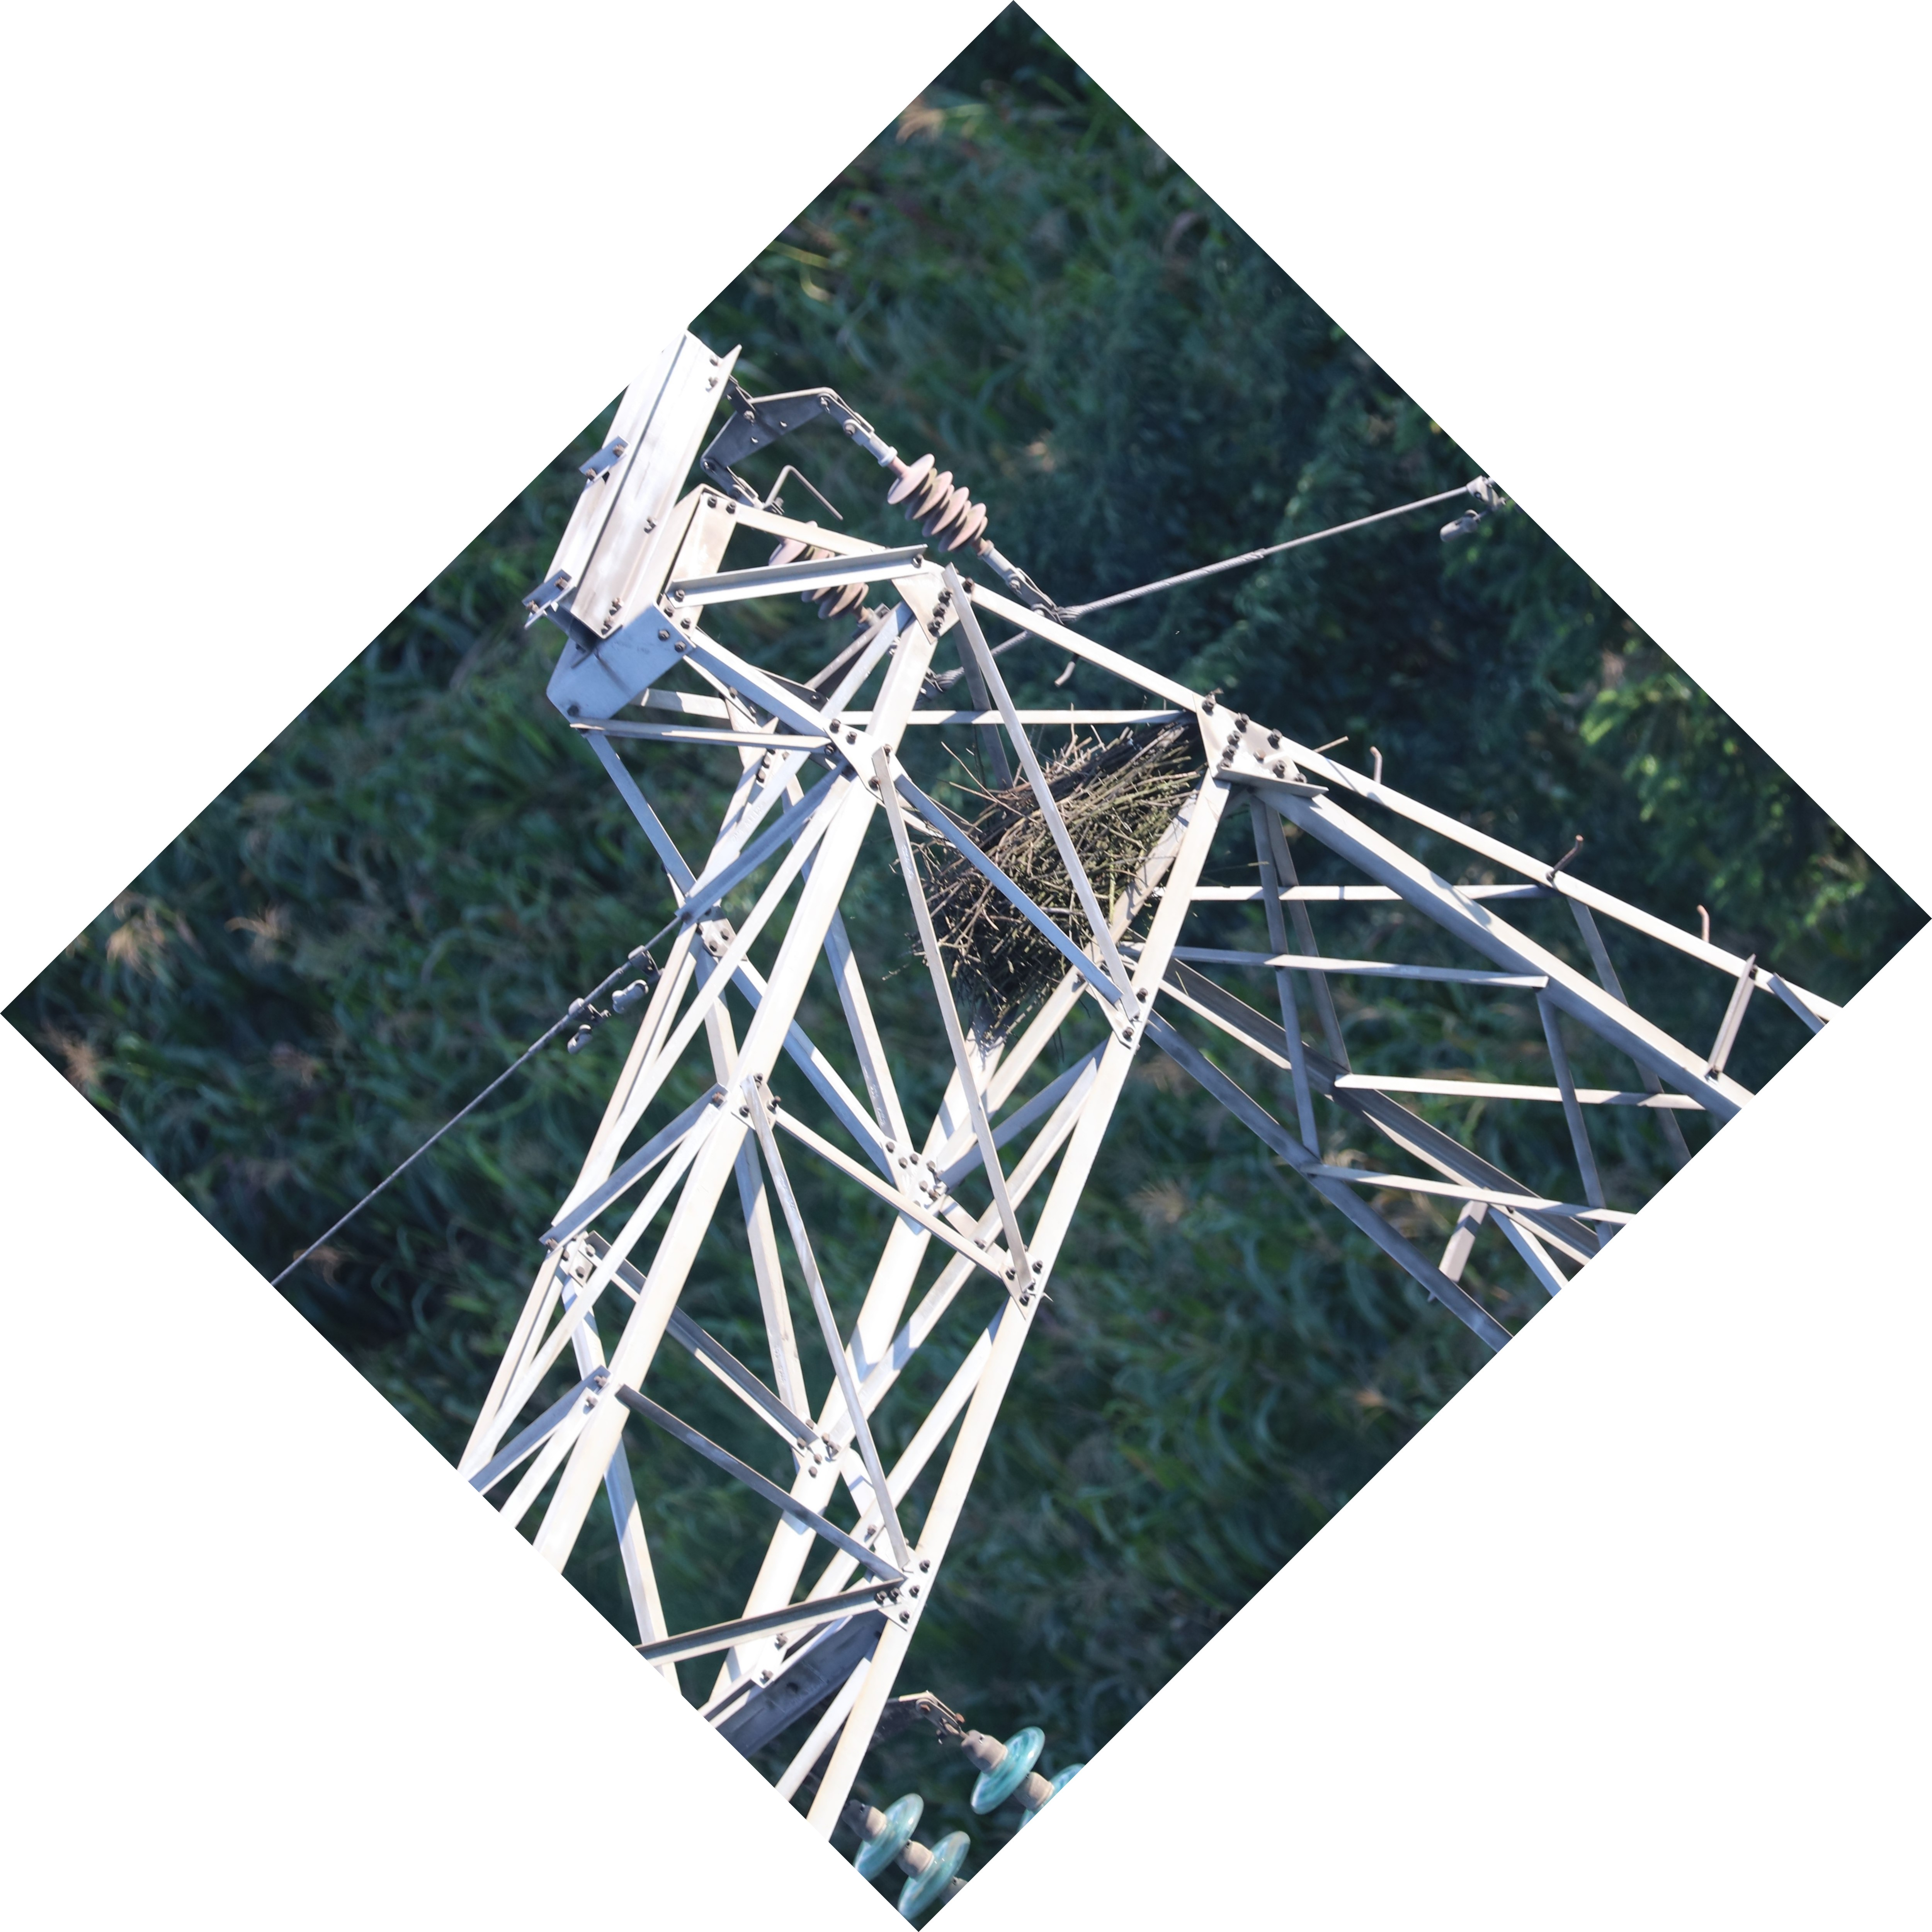niaowo: (893, 702, 1224, 1003)
